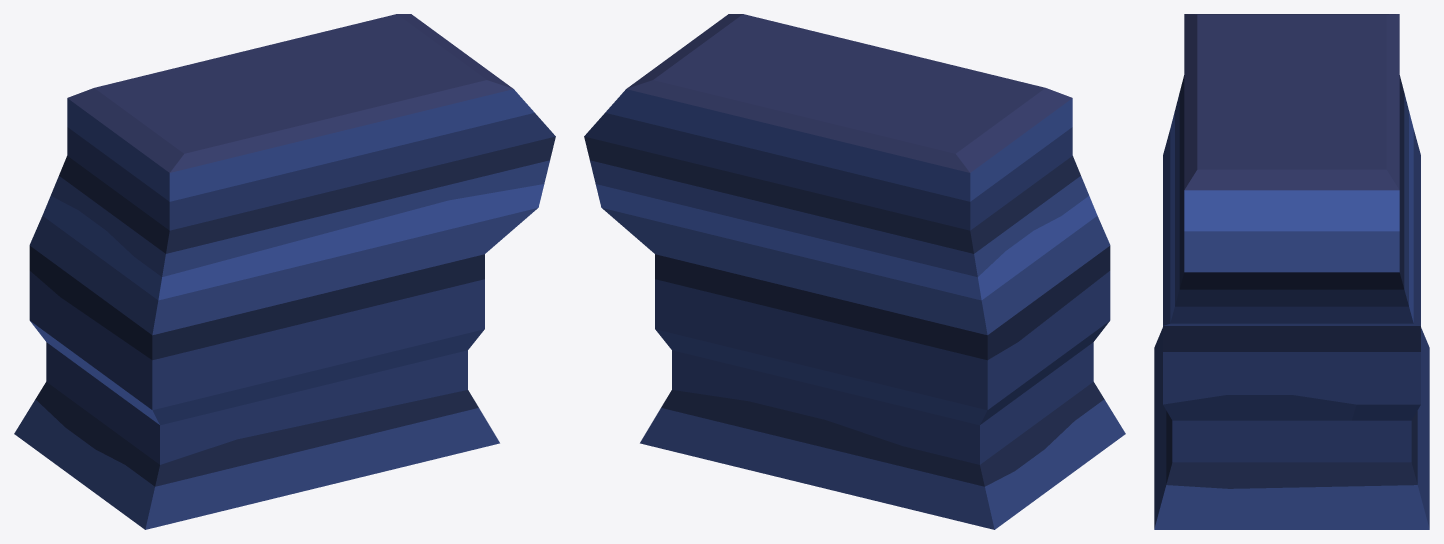
File: StoneWall022.fbx
3 views of the same model, side by side, from view 1: azimuth 30°, elevation 25°; view 2: azimuth 150°, elevation 25°; view 3: azimuth 270°, elevation 25° (orthographic). The views are drawn at different scales.
Parts seen in each view (by area): view 1: StoneWall022; view 2: StoneWall022; view 3: StoneWall022.
Part boxes in pixels (x1=…): StoneWall022: x1=14, y1=14, x2=555, y2=529; StoneWall022: x1=584, y1=14, x2=1125, y2=529; StoneWall022: x1=1154, y1=14, x2=1429, y2=529.
Size of the model in its own units: 619 by 482 by 331.
